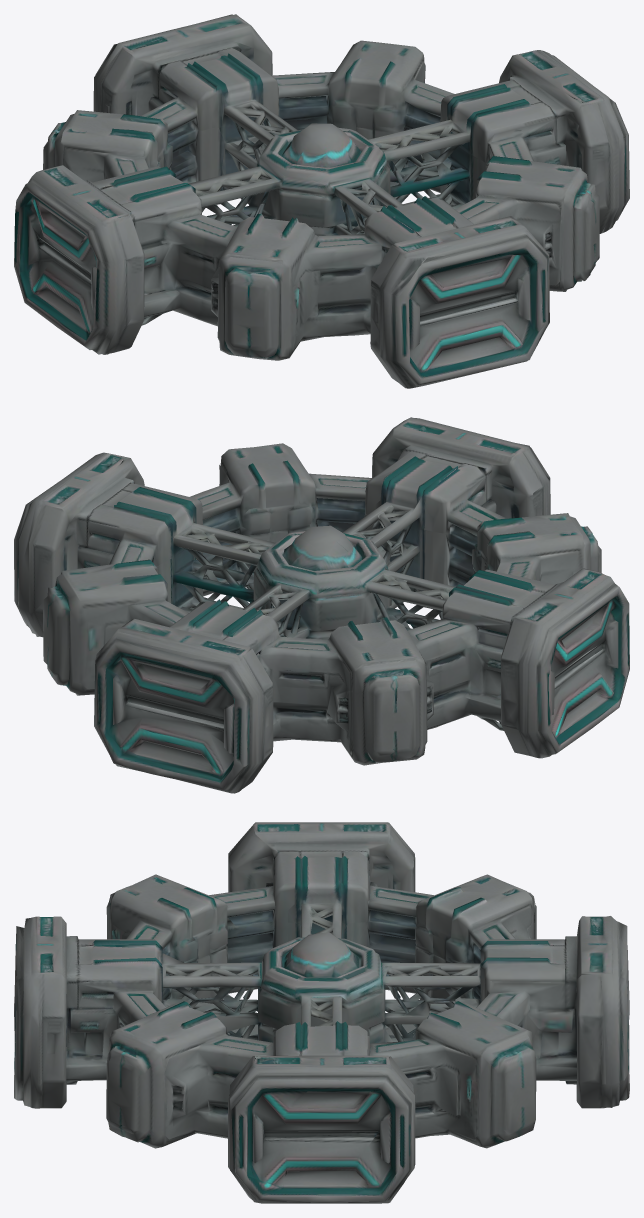
File: Casa2.glb
3 renders of one model, top to bottom at view 1: azimuth 30°, elevation 25°; view 2: azimuth 150°, elevation 25°; view 3: azimuth 270°, elevation 25°, orthographic.
Parts seen in each view (by area): view 1: tripo_node_3421455d-2423-4070-b682-82805d1cc7db; view 2: tripo_node_3421455d-2423-4070-b682-82805d1cc7db; view 3: tripo_node_3421455d-2423-4070-b682-82805d1cc7db.
Boxes of the visible parts, x1,y1,x2,y2 form: tripo_node_3421455d-2423-4070-b682-82805d1cc7db: (14, 14, 629, 388); tripo_node_3421455d-2423-4070-b682-82805d1cc7db: (14, 417, 629, 793); tripo_node_3421455d-2423-4070-b682-82805d1cc7db: (14, 822, 629, 1203).
Size of the model in its own units: 0.9823 by 0.2709 by 0.9813.
Materials: 1 (1 with a texture image).
